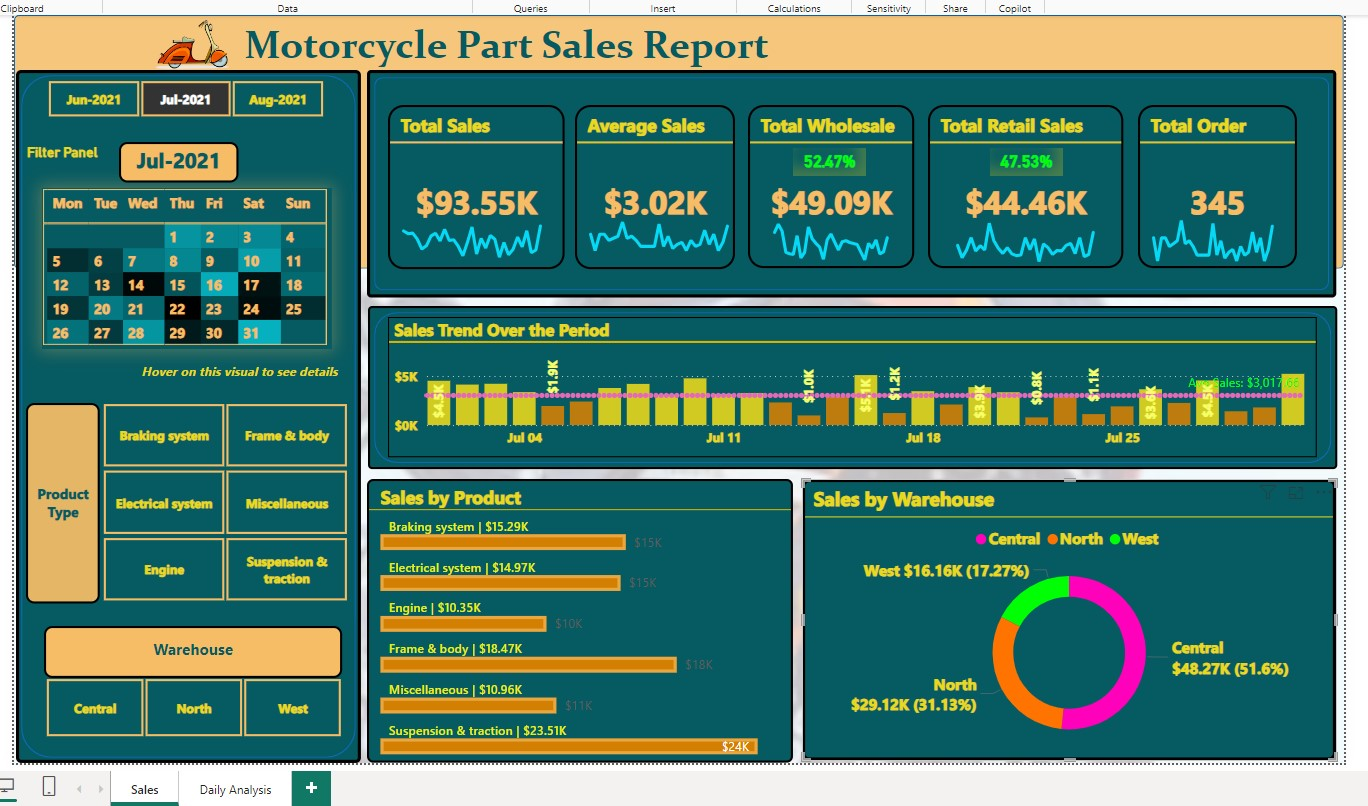

The dashboard page shown, as its layout file describes it:
{"tool":"powerbi","page":{"name":"Page 1","canvas":[1280,720],"ordinal":0},"visuals":[{"type":"shape","box":[0,0,1280,244.3],"z":0},{"type":"shape","box":[2,53,332,667],"z":1000},{"type":"textbox","box":[216.4,0,757.5,60.5],"z":2000},{"type":"shape","box":[340,53,933,219],"z":3000},{"type":"card","title":"Total Sales","fields":{"Values":["portfolio_project transaction.Totalsales"]},"box":[360,87,170,158],"z":4000},{"type":"card","title":"Average Sales","fields":{"Values":["Median(portfolio_project transaction.avg_sales)"]},"box":[540,87,154,158],"z":5000},{"type":"card","title":"Total Wholesale","fields":{"Values":["portfolio_project customer.total_wholesale"]},"box":[707,87,160,157],"z":6000},{"type":"card","title":"Total Retail Sales","fields":{"Values":["portfolio_project customer.total_retail"]},"box":[880,87,188,157],"z":7000},{"type":"card","title":"Total Order","fields":{"Values":["CountNonNull(portfolio_project transaction.order_number)"]},"box":[1082,87,153,157],"z":8000},{"type":"slicer","fields":{"Values":["portfolio_project transaction.FormattedDate"]},"box":[11.2,60,306.2,40],"z":9000},{"type":"pivotTable","fields":{"Rows":["portfolio_project date2.WEEK#"],"Columns":["portfolio_project date2.DayName"],"Values":["Min(portfolio_project date2.DayNumber)"]},"box":[27,167,279,155],"z":10000},{"type":"card","fields":{"Values":["Min(portfolio_project date2.mon-year)"]},"box":[101.2,122.5,115,38.8],"z":11000},{"type":"card","fields":{"Values":["portfolio_project transaction.Foot Note"]},"box":[116,331,201,29],"z":12000},{"type":"slicer","fields":{"Values":["portfolio_project proudct_types.product_line"]},"box":[66,373,274,193],"z":13000},{"type":"card","fields":{"Values":["portfolio_project customer.product note"]},"box":[11,372,71,192],"z":14000},{"type":"slicer","fields":{"Values":["portfolio_project transaction.warehouse"]},"box":[11,638,323,59],"z":15000},{"type":"card","fields":{"Values":["portfolio_project customer.warehouse note"]},"box":[30,587,287,50],"z":16000},{"type":"shape","box":[340,280,933,157],"z":17000},{"type":"columnChart","title":"Sales Trend Over the Period","fields":{"Y":["Sum(portfolio_project transaction.total_sales)"],"Category":["portfolio_project transaction.date Hierarchy.date"]},"box":[360,291,894,135],"z":18000},{"type":"donutChart","title":"Sales by Warehouse","fields":{"Y":["portfolio_project transaction.Totalsales"],"Category":["portfolio_project customer.warehouse"]},"box":[758.7,446.8,514.3,271.1],"z":19000},{"type":"clusteredBarChart","title":"Sales by Product","fields":{"Category":["portfolio_project proudct_types.product_line"],"Y":["portfolio_project transaction.productorder","portfolio_project transaction.Totalsales"]},"box":[340,447,410,273],"z":20000},{"type":"lineChart","fields":{"Category":["portfolio_project transaction.date Hierarchy.date"],"Y":["portfolio_project transaction.Totalsales"]},"box":[359.6,183.9,161.7,60.5],"z":21000},{"type":"lineChart","fields":{"Category":["portfolio_project transaction.date Hierarchy.date"],"Y":["portfolio_project customer.total_wholesale"]},"box":[716.8,183.9,138.5,60.5],"z":22000},{"type":"lineChart","fields":{"Category":["portfolio_project transaction.date Hierarchy.date"],"Y":["portfolio_project customer.total_retail"]},"box":[893.7,183.9,160.6,60.5],"z":23000},{"type":"lineChart","fields":{"Category":["portfolio_project transaction.date Hierarchy.date"],"Y":["portfolio_project customer.TotalOrders"]},"box":[1078.7,175.7,147.8,60.5],"z":24000},{"type":"textbox","box":[11.6,122.2,69.8,45.4],"z":24001},{"type":"image","box":[64,0,216.4,57],"z":24002}]}

Visuals, with their boxes on the page's 1280x720 design canvas (x1, y1, x2, y2). These are canvas units, not pixel positions in the 1368x806 screenshot, which may show the page scaled, cropped or inside an application window:
shape: box(0, 0, 1280, 244)
shape: box(2, 53, 334, 720)
textbox: box(216, 0, 974, 60)
shape: box(340, 53, 1273, 272)
"Total Sales" card: box(360, 87, 530, 245)
"Average Sales" card: box(540, 87, 694, 245)
"Total Wholesale" card: box(707, 87, 867, 244)
"Total Retail Sales" card: box(880, 87, 1068, 244)
"Total Order" card: box(1082, 87, 1235, 244)
slicer - portfolio_project transaction.FormattedDate: box(11, 60, 317, 100)
pivotTable - portfolio_project date2.WEEK# x portfolio_project date2.DayName: box(27, 167, 306, 322)
card - Min(portfolio_project date2.mon-year): box(101, 122, 216, 161)
card - portfolio_project transaction.Foot Note: box(116, 331, 317, 360)
slicer - portfolio_project proudct_types.product_line: box(66, 373, 340, 566)
card - portfolio_project customer.product note: box(11, 372, 82, 564)
slicer - portfolio_project transaction.warehouse: box(11, 638, 334, 697)
card - portfolio_project customer.warehouse note: box(30, 587, 317, 637)
shape: box(340, 280, 1273, 437)
"Sales Trend Over the Period" columnChart: box(360, 291, 1254, 426)
"Sales by Warehouse" donutChart: box(759, 447, 1273, 718)
"Sales by Product" clusteredBarChart: box(340, 447, 750, 720)
lineChart - portfolio_project transaction.date Hierarchy.date x portfolio_project transaction.Totalsales: box(360, 184, 521, 244)
lineChart - portfolio_project transaction.date Hierarchy.date x portfolio_project customer.total_wholesale: box(717, 184, 855, 244)
lineChart - portfolio_project transaction.date Hierarchy.date x portfolio_project customer.total_retail: box(894, 184, 1054, 244)
lineChart - portfolio_project transaction.date Hierarchy.date x portfolio_project customer.TotalOrders: box(1079, 176, 1226, 236)
textbox: box(12, 122, 81, 168)
image: box(64, 0, 280, 57)
